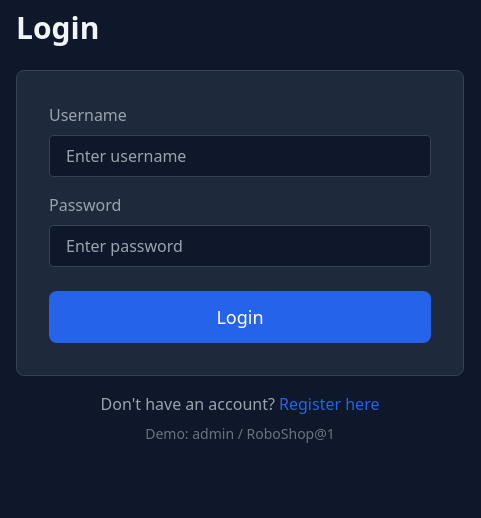
Scenario: Login page › shows an error message when the API returns no token
Type "bad" into the field with placeholder "Enter username" at (240, 156), box [49,135,431,177]
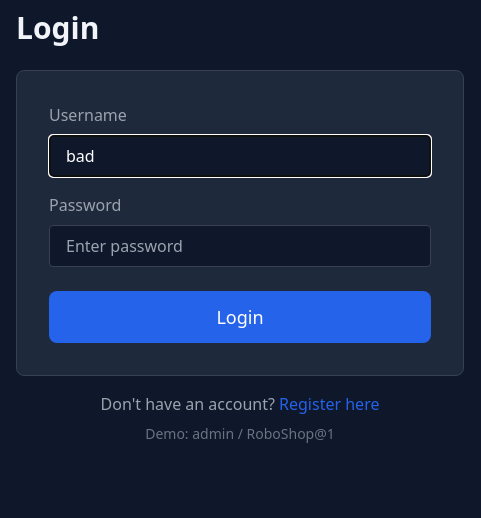
Type "wrong" into the password field with placeholder "Enter password" at (240, 246), box [49,225,431,267]
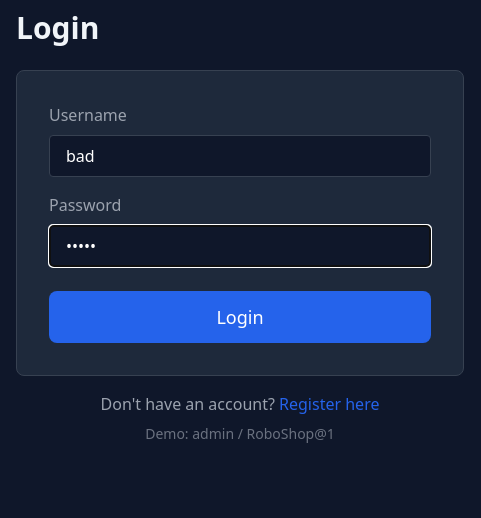
Click the button "Login" at (240, 317), box [49,291,431,343]
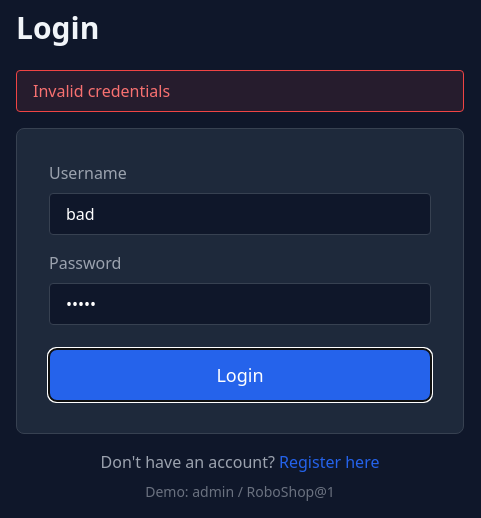
Check: the text "Invalid credentials" is shown, box [16,70,464,112]
